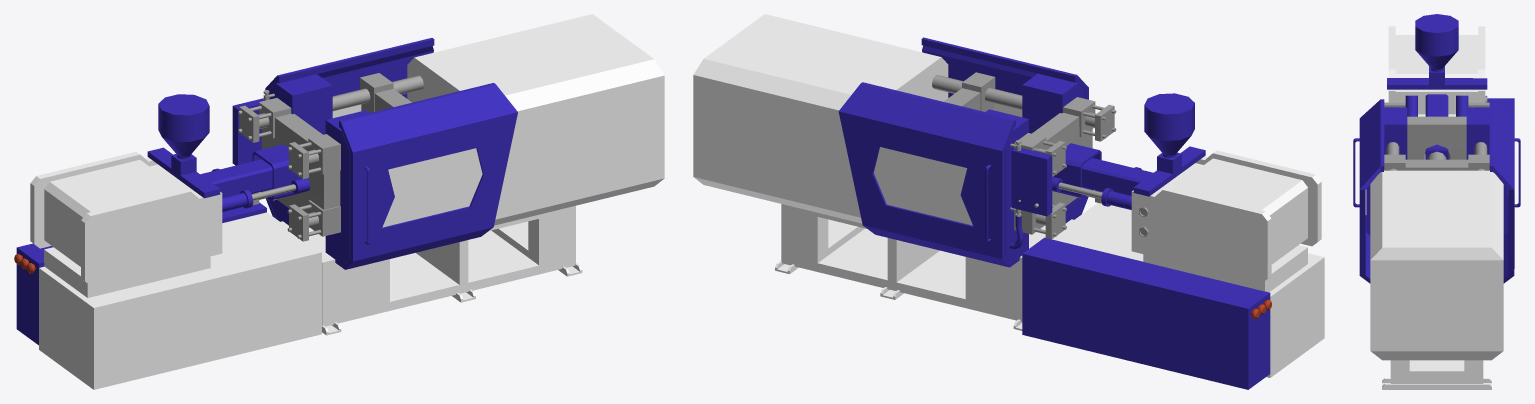
The model's file is zhusuji.glb.
The picture shows the model from 3 angles, left to right: view 1: azimuth 30°, elevation 25°; view 2: azimuth 150°, elevation 25°; view 3: azimuth 270°, elevation 25°; orthographic projection. The views are drawn at different scales.
Visible parts, largest first — view 1: zhusuji006; view 2: zhusuji006; view 3: zhusuji006.
Boxes of the visible parts, x1,y1,x2,y2 form: zhusuji006: [14, 14, 664, 389]; zhusuji006: [693, 14, 1324, 389]; zhusuji006: [1353, 14, 1520, 389].
Bounding box in the file's own units: 6.24 × 2.45 × 1.79.
